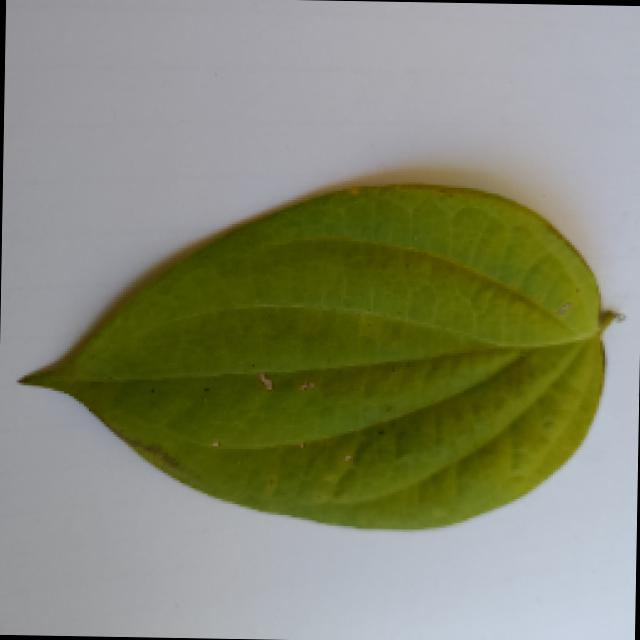slow-decline: (9, 178, 618, 540)
